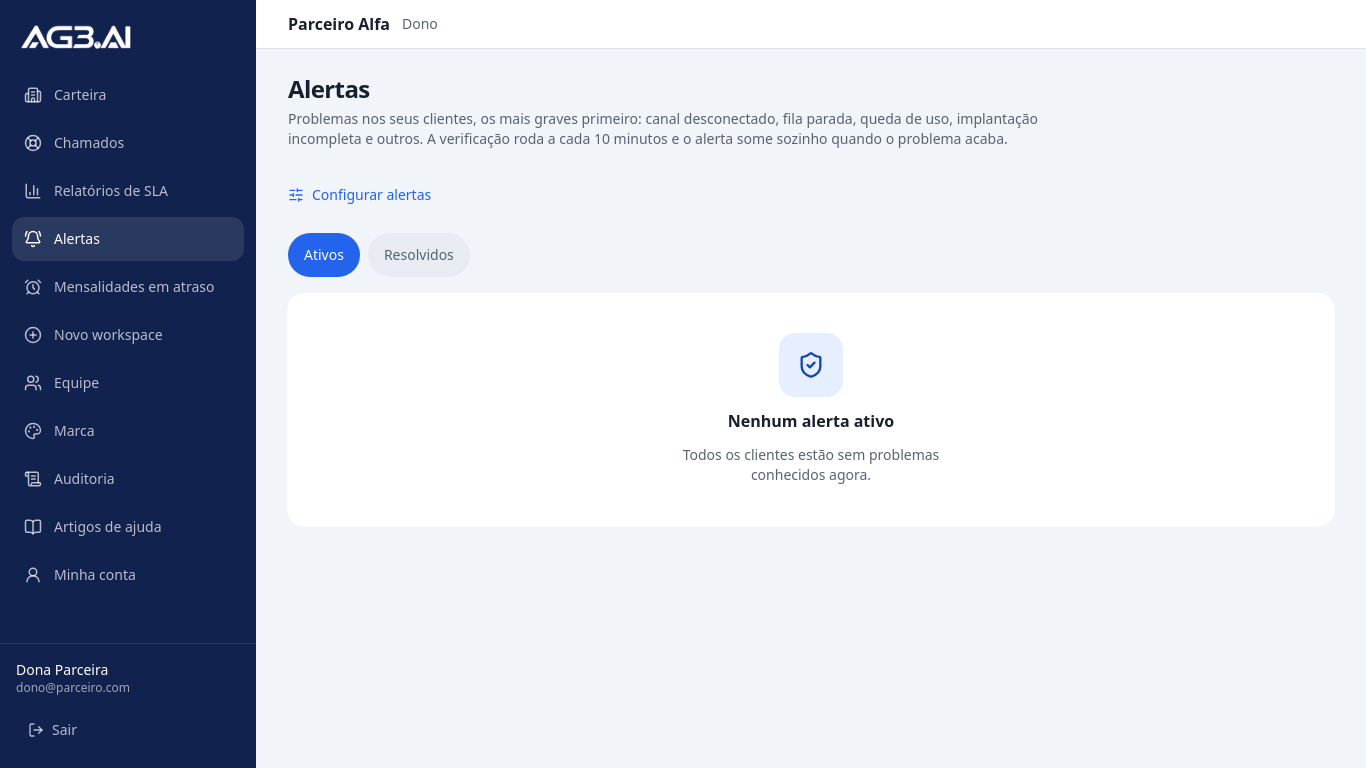
Test: configurar alertas › abre pela página de alertas, muda um limite, desliga um tipo e salva
Click the link "Configurar alertas": (360, 194) [288,185,431,204]
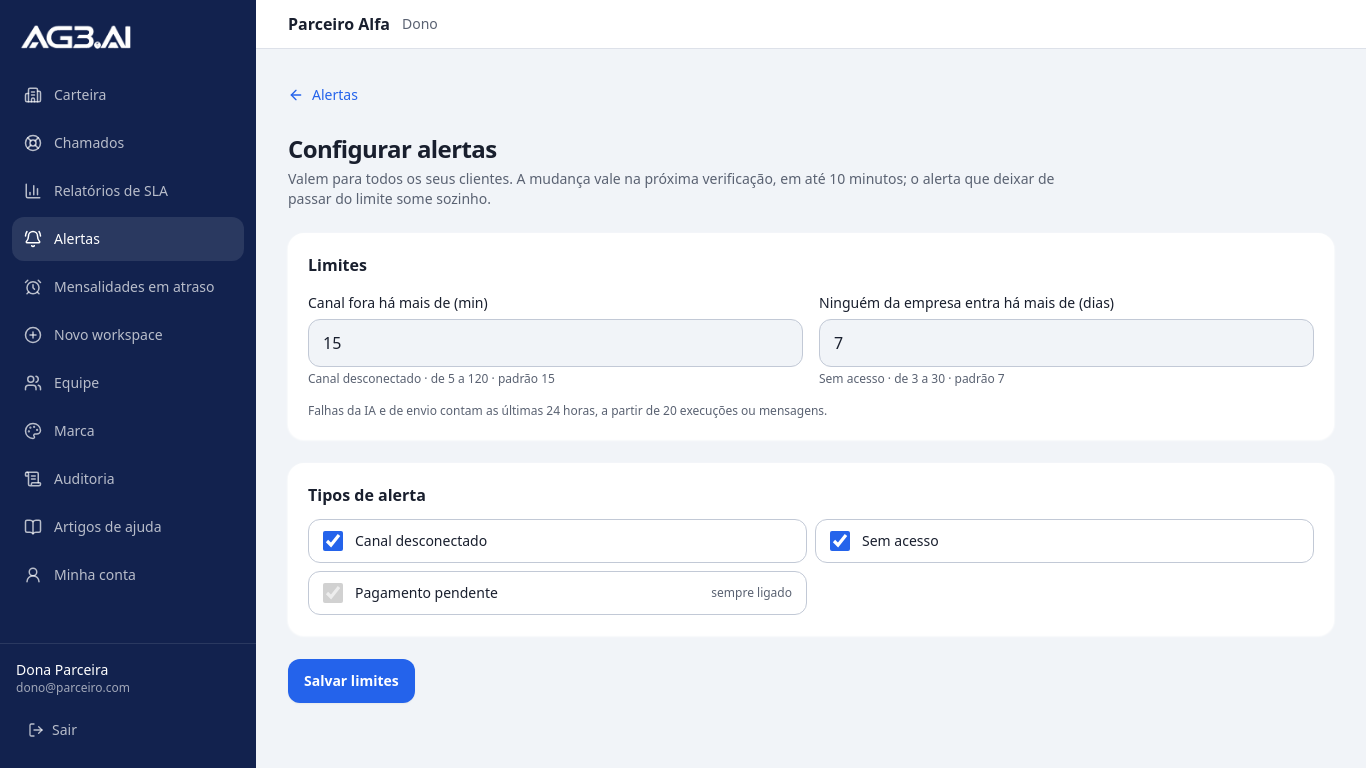
Replace the text in the number field labelled "Canal fora há mais de (min)" with "30": (556, 343) [308,319,803,367]
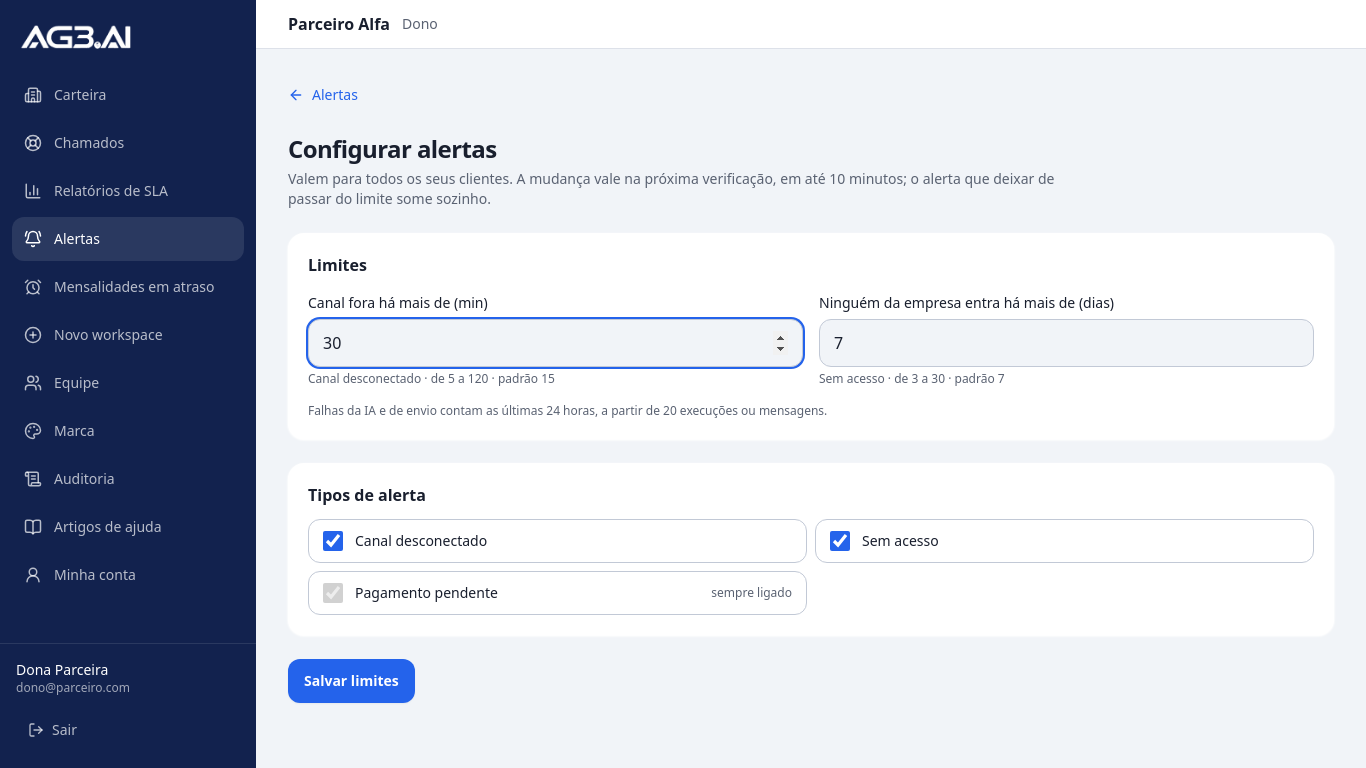
Now the checkbox labelled "Pagamento pendente sempre ligado" is disabled, box [323,583,343,603]
Click the checkbox labelled "Sem acesso": (840, 541) [830,531,850,551]
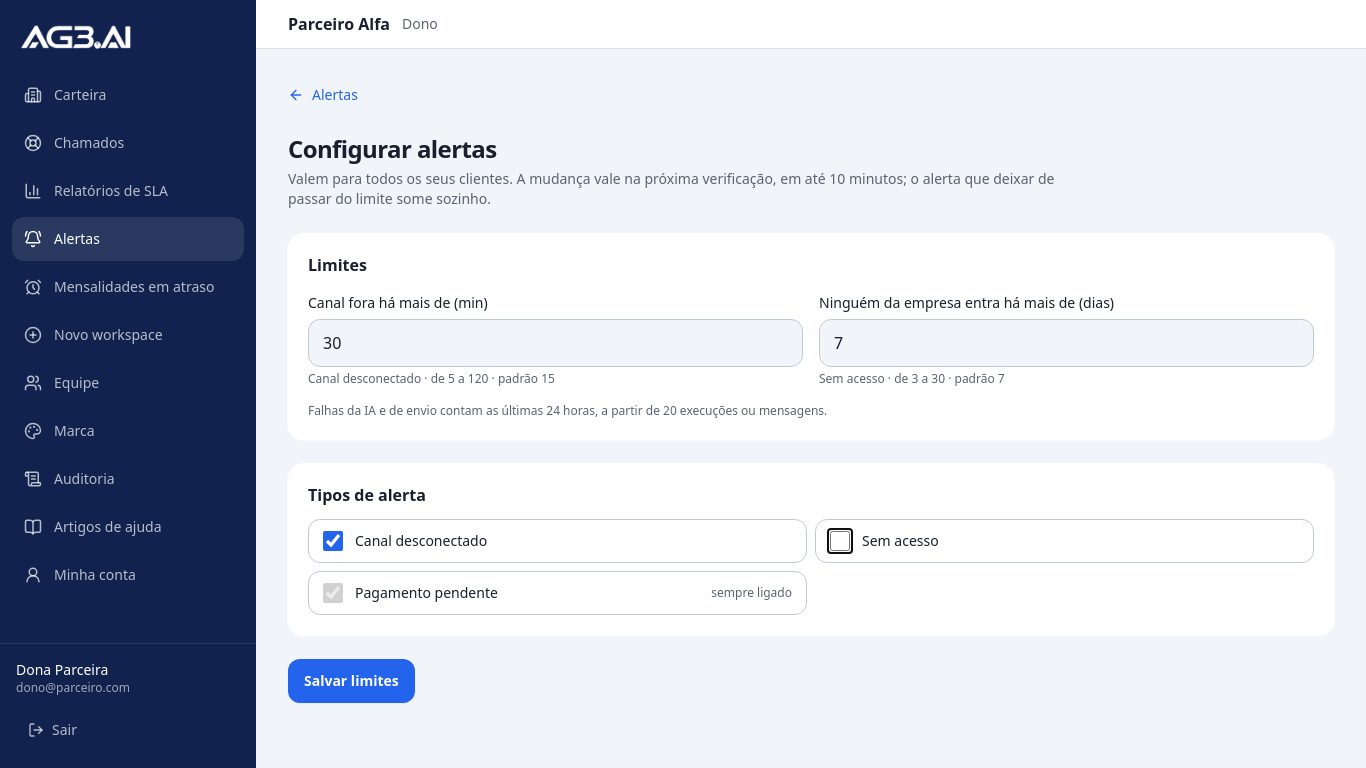
Expected: the number field labelled "Ninguém da empresa entra há mais de (dias)" is disabled, [819,319,1314,367]
Click the button "Salvar limites": (351, 681) [288,659,415,703]
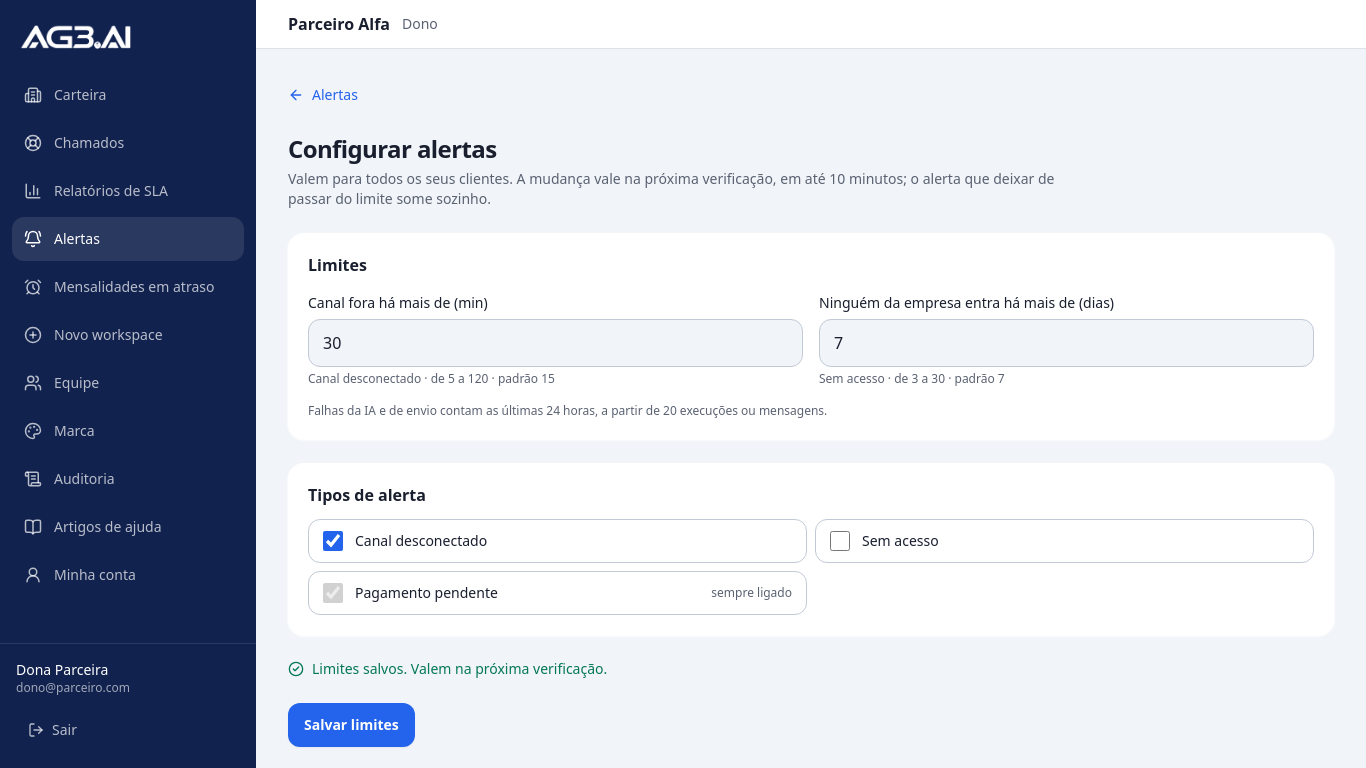
Now the text "Limites salvos. Valem na próxima verificação." is shown, box [288,659,607,678]
